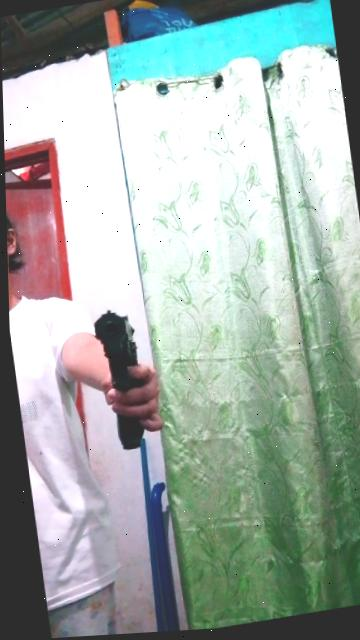pistol: (71, 297, 180, 464)
